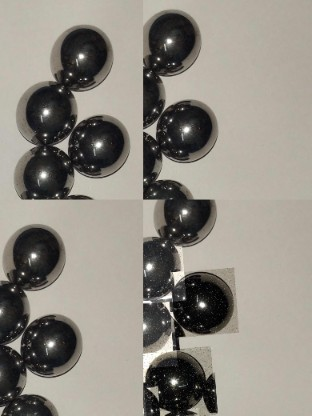ironball: (167, 270, 235, 340), (159, 95, 221, 170), (0, 221, 65, 291), (143, 348, 210, 415), (145, 2, 200, 80), (21, 311, 82, 378), (150, 199, 222, 255), (8, 138, 71, 201), (54, 21, 115, 86), (67, 119, 134, 178), (17, 80, 77, 138), (143, 238, 182, 308), (143, 297, 173, 373), (0, 279, 29, 347), (144, 128, 174, 183), (145, 60, 172, 121), (140, 176, 203, 201), (1, 350, 26, 398), (2, 393, 58, 413)
